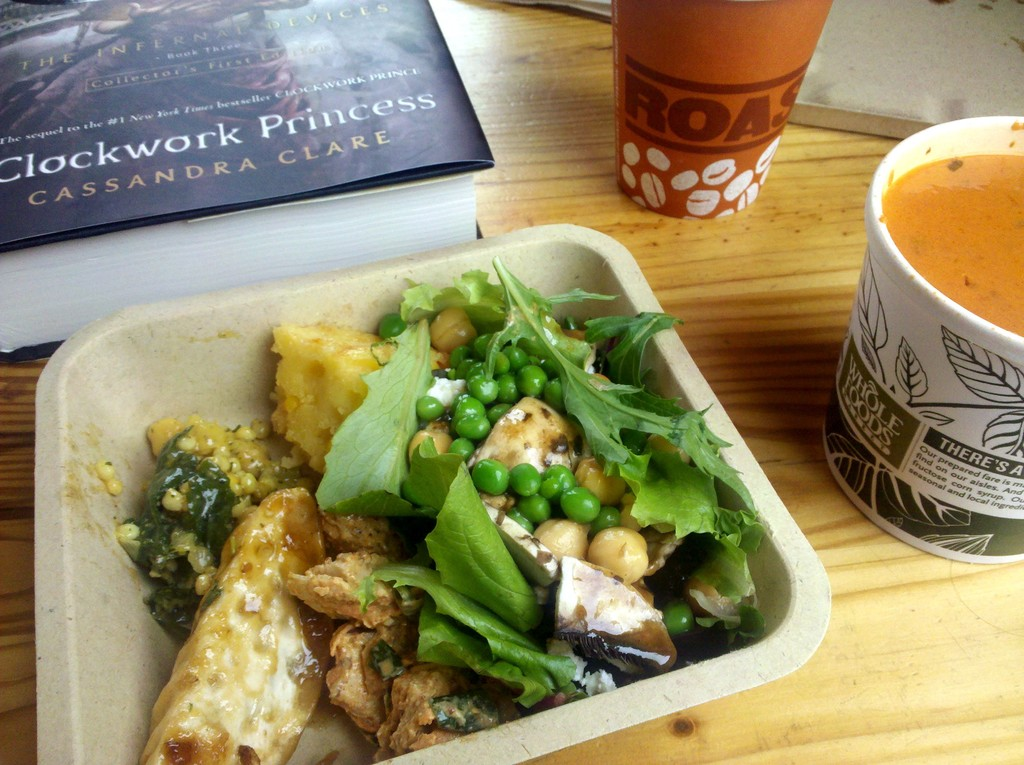salad: (101, 249, 783, 764)
